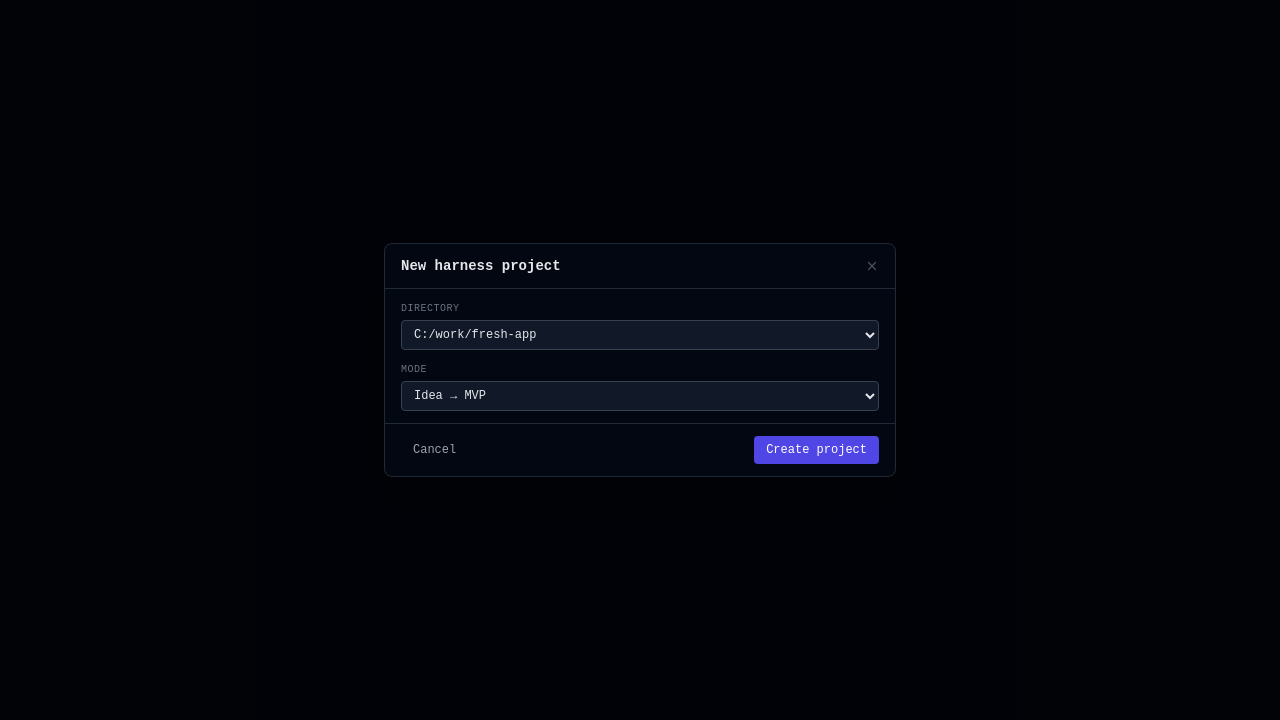
Scenario: NewHarnessProjectDialog › POSTs the selected path + mode and shows success
Select "C:/work/another" in the dropdown labelled "Directory" at (640, 335), box [401,320,879,350]
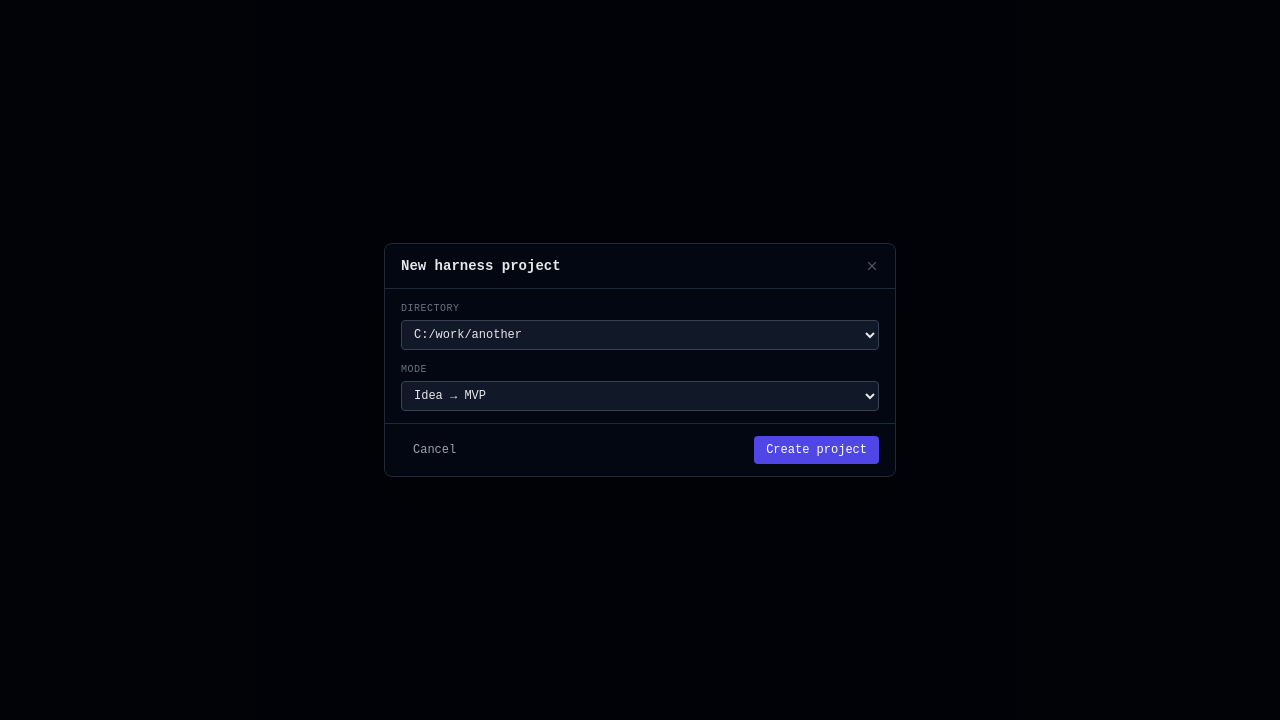
Select "Bugfix" in the dropdown labelled "Mode" at (640, 396), box [401,381,879,411]
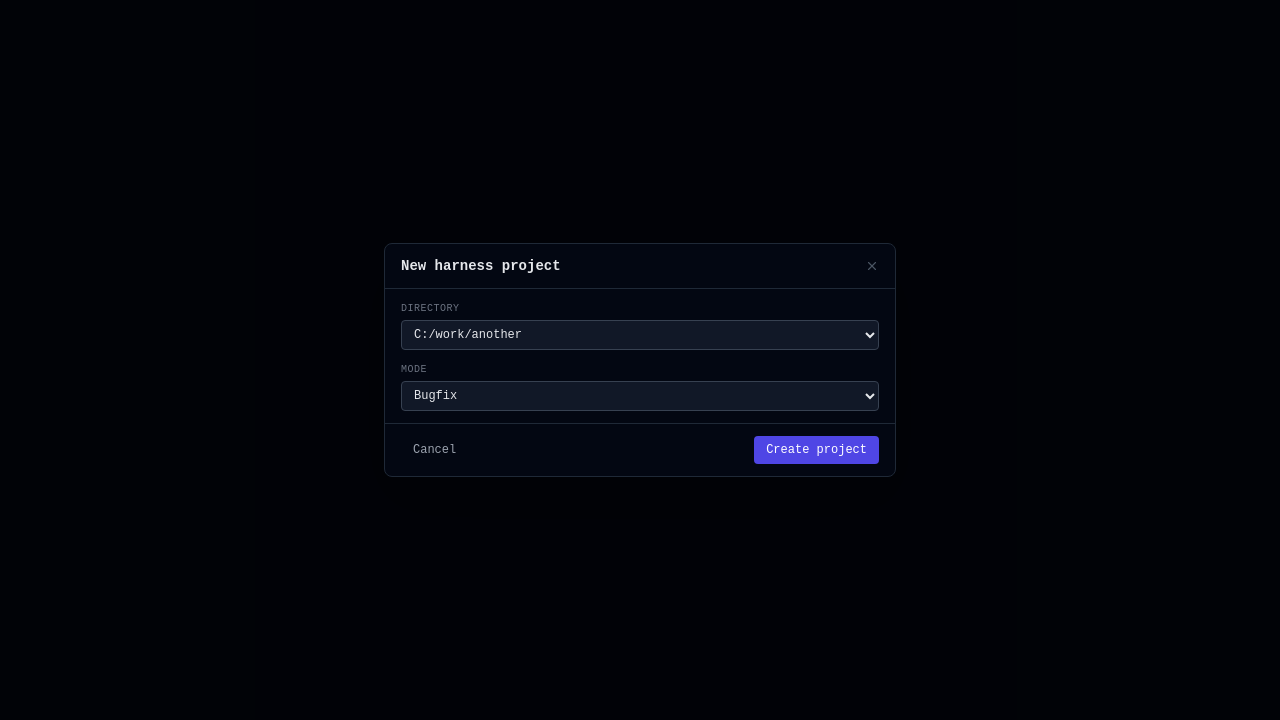
Click the button "Create project" at (817, 450), box [754,436,879,464]
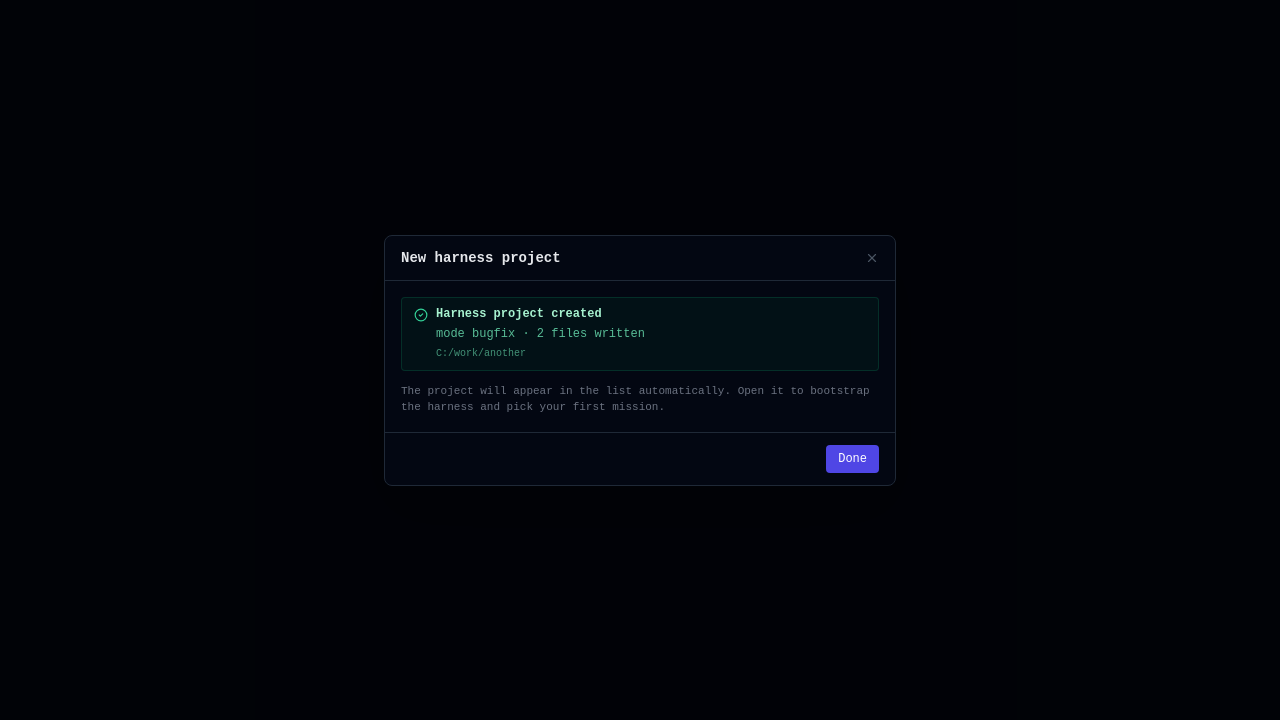
Expected: the text "Harness project created" is shown, [436,306,602,320]
Expected: the text "mode bugfix · 2 files written" is shown, [436,326,645,342]
